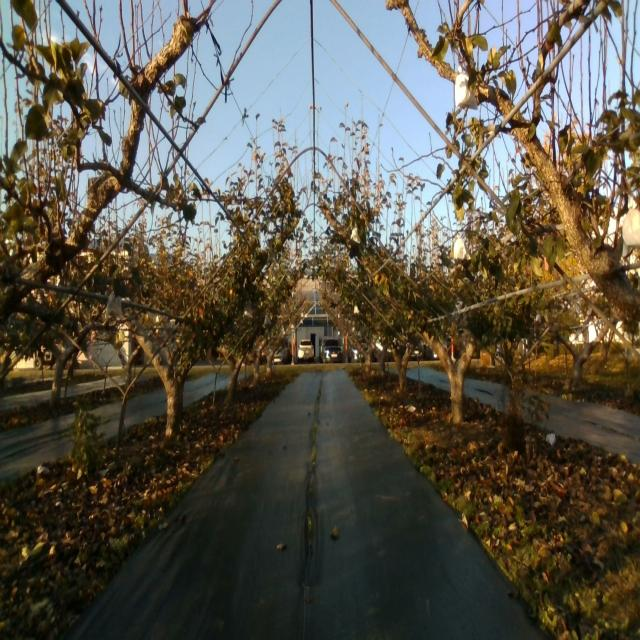pearbags: (454, 66, 479, 110), (621, 203, 640, 258), (453, 232, 471, 260), (106, 290, 123, 318)
